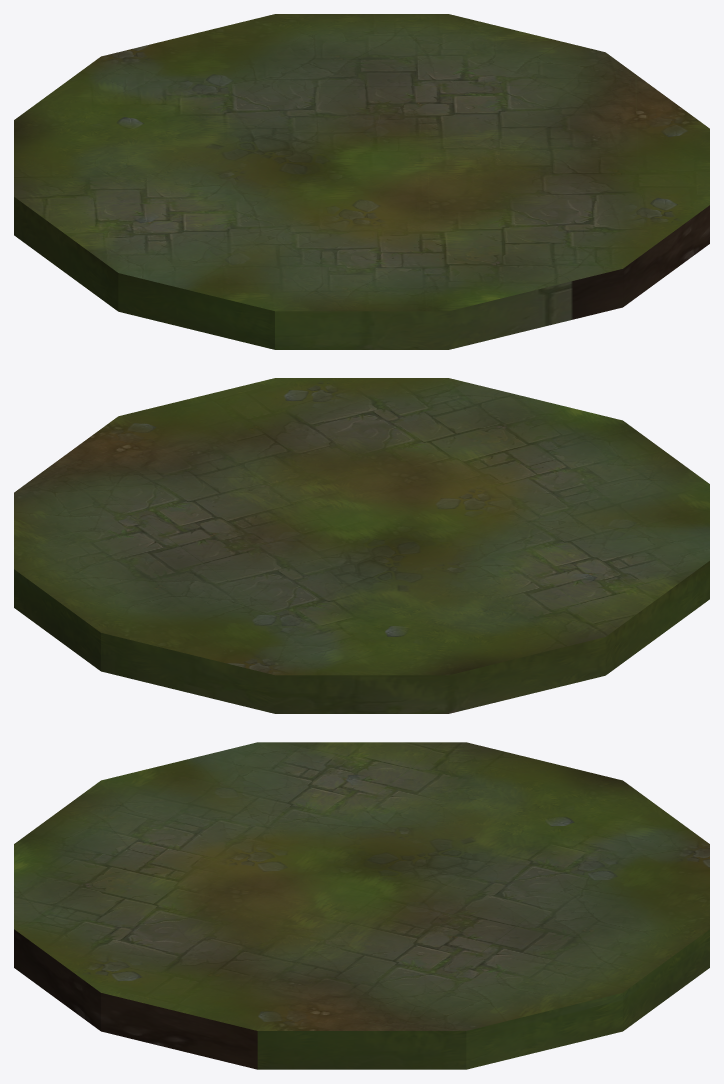
Rendered from Floor_Circular_001.fbx.
3 renders of one model, top to bottom at view 1: azimuth 30°, elevation 25°; view 2: azimuth 150°, elevation 25°; view 3: azimuth 270°, elevation 25°, orthographic.
Visible parts, largest first — view 1: pCylinder7; view 2: pCylinder7; view 3: pCylinder7.
Boxes of the visible parts, left/top/right/bottom form: pCylinder7: left=14, top=14, right=709, bottom=349; pCylinder7: left=14, top=378, right=709, bottom=713; pCylinder7: left=14, top=742, right=709, bottom=1069.
Size of the model in its own units: 3082 by 193 by 3140.
